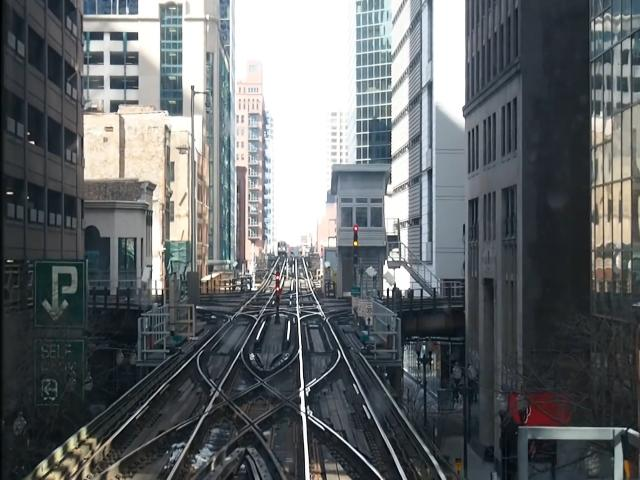signal light: (276, 266, 282, 308), (354, 224, 360, 266)
